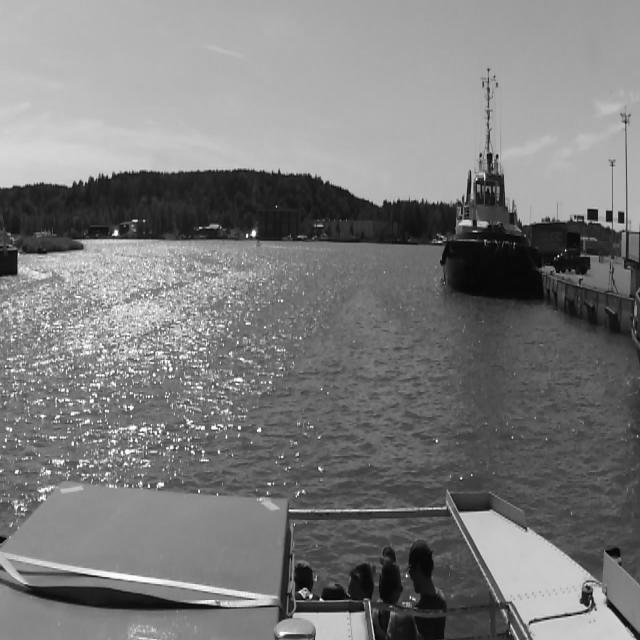ship: (439, 149, 535, 295)
